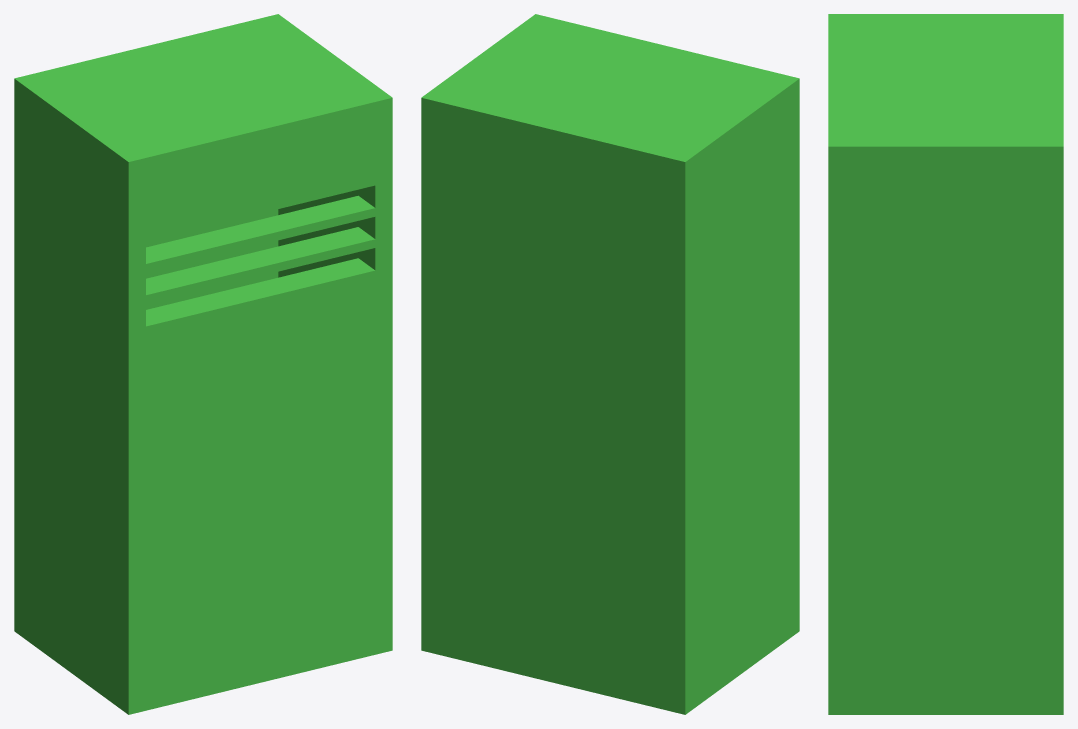
The model's file is locker.fbx.
3 views of the same model, side by side, from view 1: azimuth 30°, elevation 25°; view 2: azimuth 150°, elevation 25°; view 3: azimuth 270°, elevation 25° (orthographic). The views are drawn at different scales.
Visible parts, largest first — view 1: armari; view 2: armari; view 3: armari.
Part boxes in pixels (left/top/right/bottom): armari: left=14, top=14, right=392, bottom=714; armari: left=421, top=14, right=799, bottom=714; armari: left=828, top=14, right=1063, bottom=714.
Size of the model in its own units: 128 by 256 by 96.
